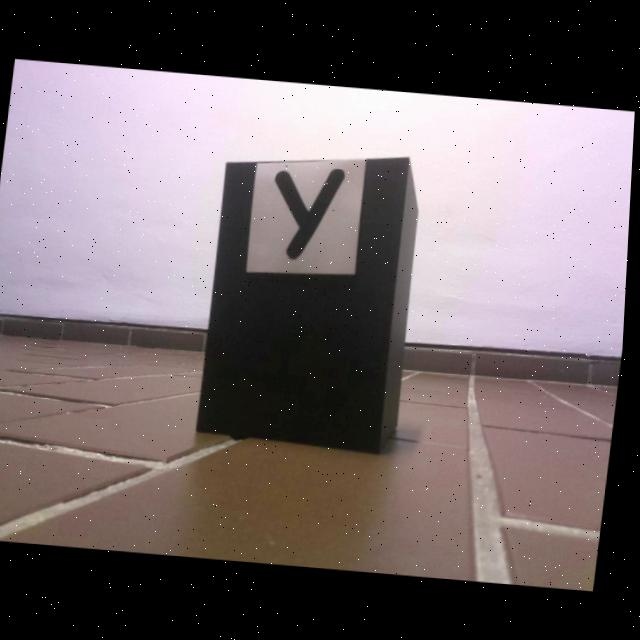Y: (277, 168, 346, 257)
